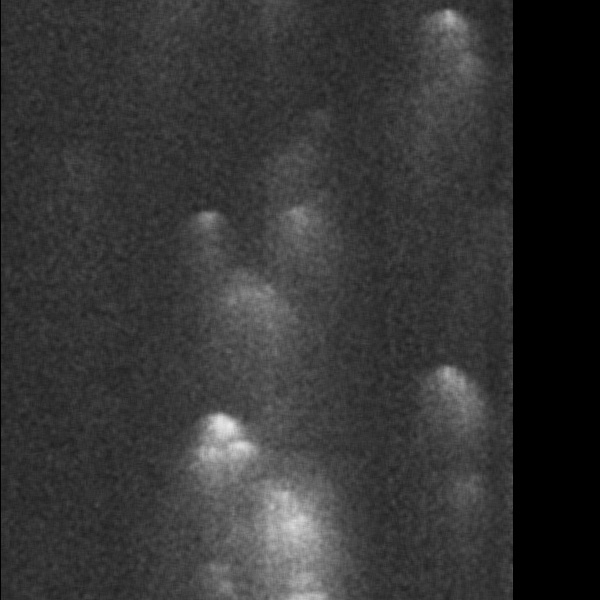spark: (1, 261, 50, 317), (8, 568, 75, 595), (12, 444, 47, 493)
